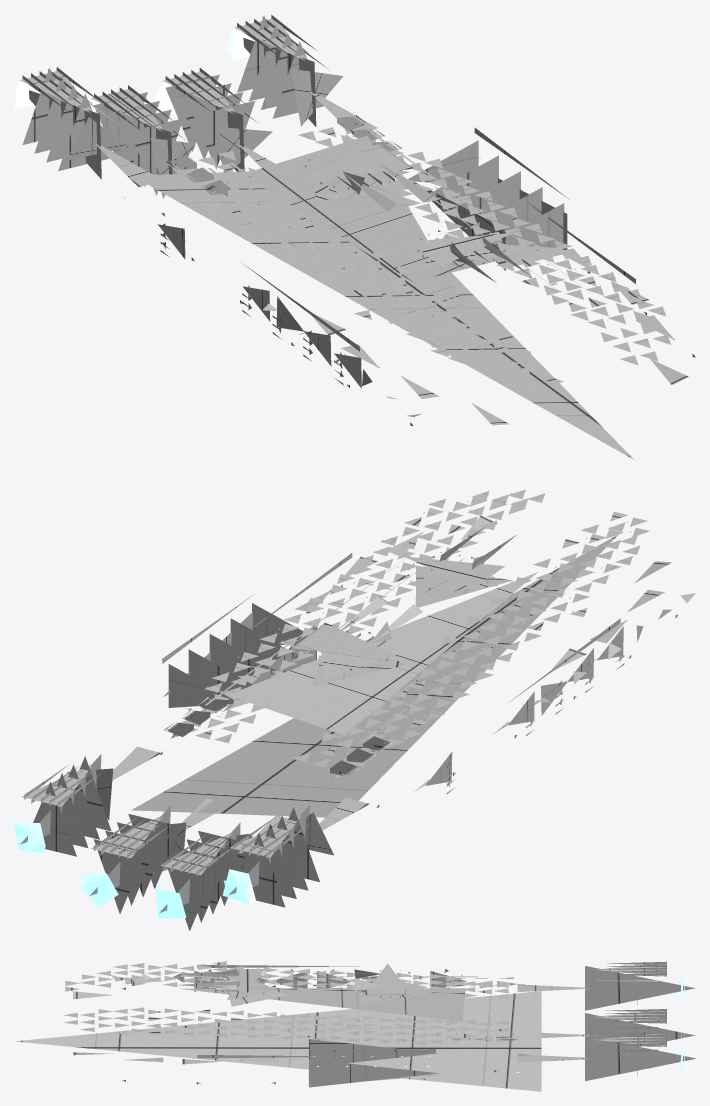
File: haemu_line_ship_lod3_v3_final.glb
The picture shows the model from 3 angles, top to bottom: view 1: azimuth 30°, elevation 25°; view 2: azimuth 150°, elevation 25°; view 3: azimuth 270°, elevation 25°; orthographic projection. The views are drawn at different scales.
Parts seen in each view (by area): view 1: LOD3_batch_00_cold grey armour, LOD3_batch_01_machined pale edge, LOD3_batch_02_black hangar interior, LOD3_batch_04_copper thermal manifold, LOD3_batch_03_blue engine ion; view 2: LOD3_batch_00_cold grey armour, LOD3_batch_01_machined pale edge, LOD3_batch_02_black hangar interior, LOD3_batch_03_blue engine ion, LOD3_batch_04_copper thermal manifold; view 3: LOD3_batch_00_cold grey armour, LOD3_batch_01_machined pale edge, LOD3_batch_02_black hangar interior, LOD3_batch_04_copper thermal manifold.
Part boxes in pixels (bbox=[...]): LOD3_batch_00_cold grey armour: bbox=[29, 38, 688, 459]; LOD3_batch_01_machined pale edge: bbox=[22, 15, 635, 417]; LOD3_batch_02_black hangar interior: bbox=[19, 15, 695, 426]; LOD3_batch_04_copper thermal manifold: bbox=[66, 44, 655, 381]; LOD3_batch_03_blue engine ion: bbox=[14, 28, 566, 205]; LOD3_batch_00_cold grey armour: bbox=[20, 489, 671, 912]; LOD3_batch_01_machined pale edge: bbox=[33, 552, 695, 930]; LOD3_batch_02_black hangar interior: bbox=[21, 527, 678, 876]; LOD3_batch_03_blue engine ion: bbox=[14, 603, 255, 920]; LOD3_batch_04_copper thermal manifold: bbox=[31, 493, 631, 872]; LOD3_batch_00_cold grey armour: bbox=[15, 961, 695, 1091]; LOD3_batch_01_machined pale edge: bbox=[111, 964, 637, 1087]; LOD3_batch_02_black hangar interior: bbox=[121, 961, 666, 1085]; LOD3_batch_04_copper thermal manifold: bbox=[74, 964, 658, 1068].
Size of the model in its own units: 10.48 by 4.91 by 30.06.
6 materials, 4 textured.
